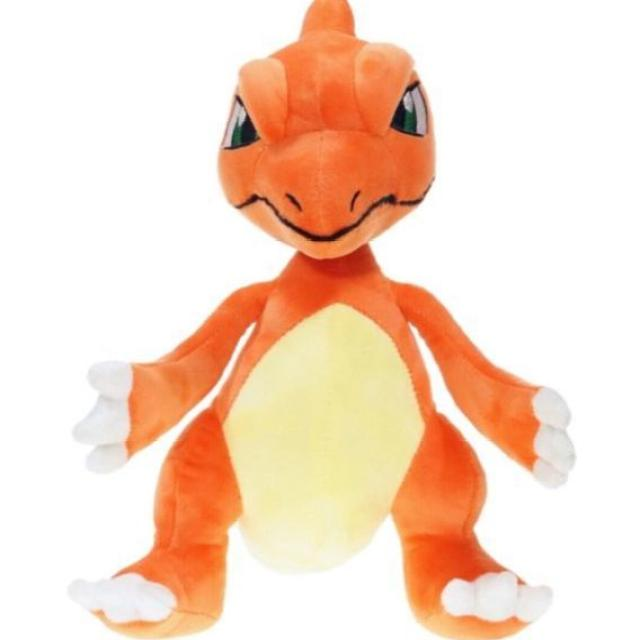Charmeleon: (144, 5, 498, 640)
